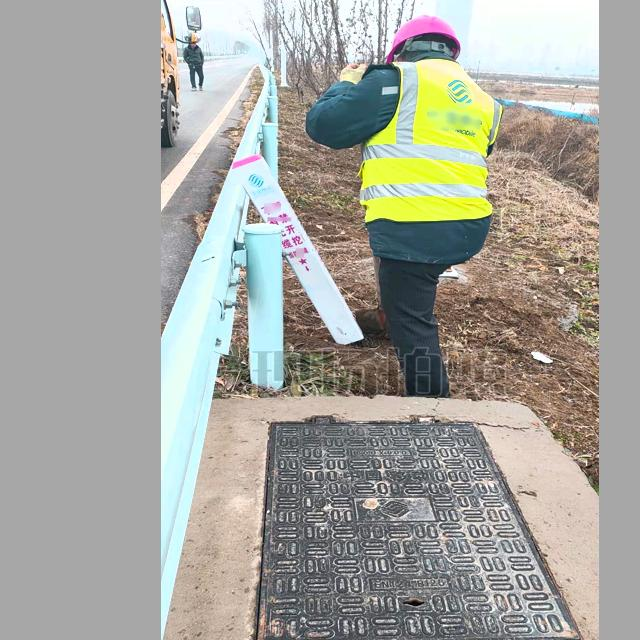good: (253, 412, 585, 640)
